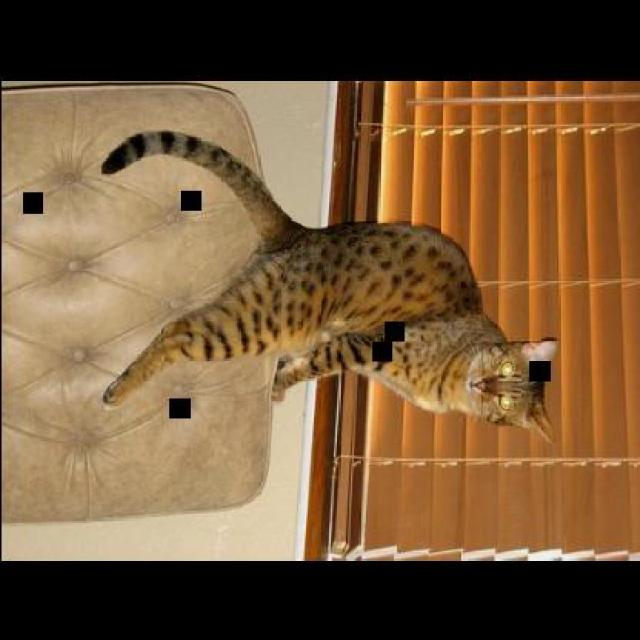unauthorized: (99, 128, 558, 443)
